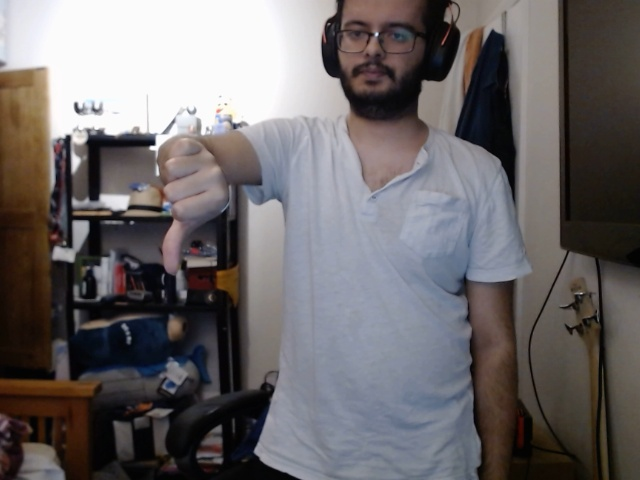Thumbs down: (145, 126, 247, 278)
